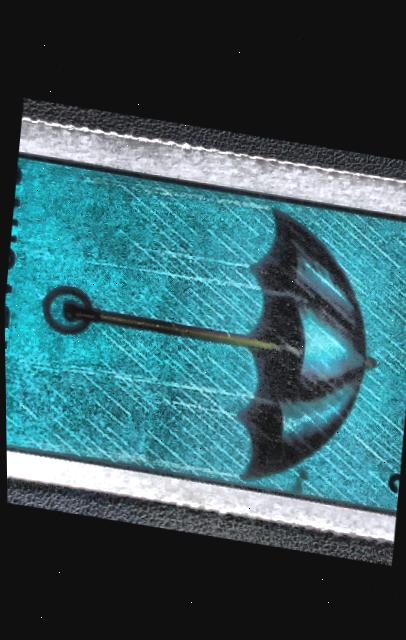El Paraguas: (2, 140, 406, 521)
